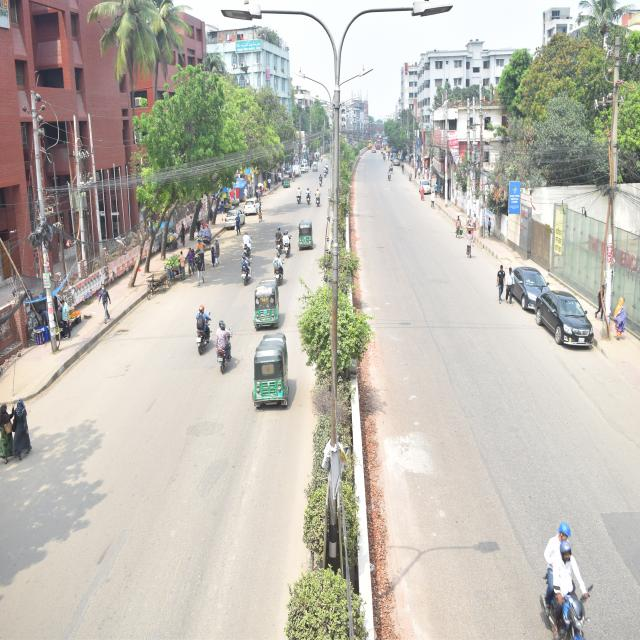car: (535, 272, 597, 363), (484, 227, 546, 317), (237, 188, 270, 223), (225, 191, 247, 240), (416, 173, 439, 210)
motorbike: (529, 489, 595, 640), (213, 304, 240, 393), (186, 296, 213, 355), (277, 225, 303, 272), (267, 241, 287, 291), (239, 249, 257, 302), (267, 218, 286, 266), (240, 229, 254, 269), (383, 165, 398, 202), (292, 174, 304, 209), (311, 161, 324, 193), (318, 158, 332, 184), (302, 176, 312, 210), (314, 177, 322, 218)
